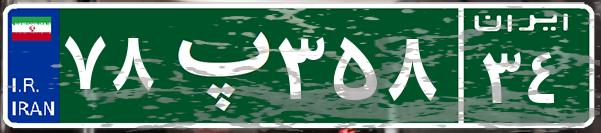3: (273, 28, 330, 110), (475, 38, 525, 113)
4: (525, 38, 570, 115)
5: (330, 28, 385, 110)
7: (57, 26, 110, 107)
8: (385, 28, 445, 110), (110, 28, 158, 105)
پ: (158, 15, 273, 115)
